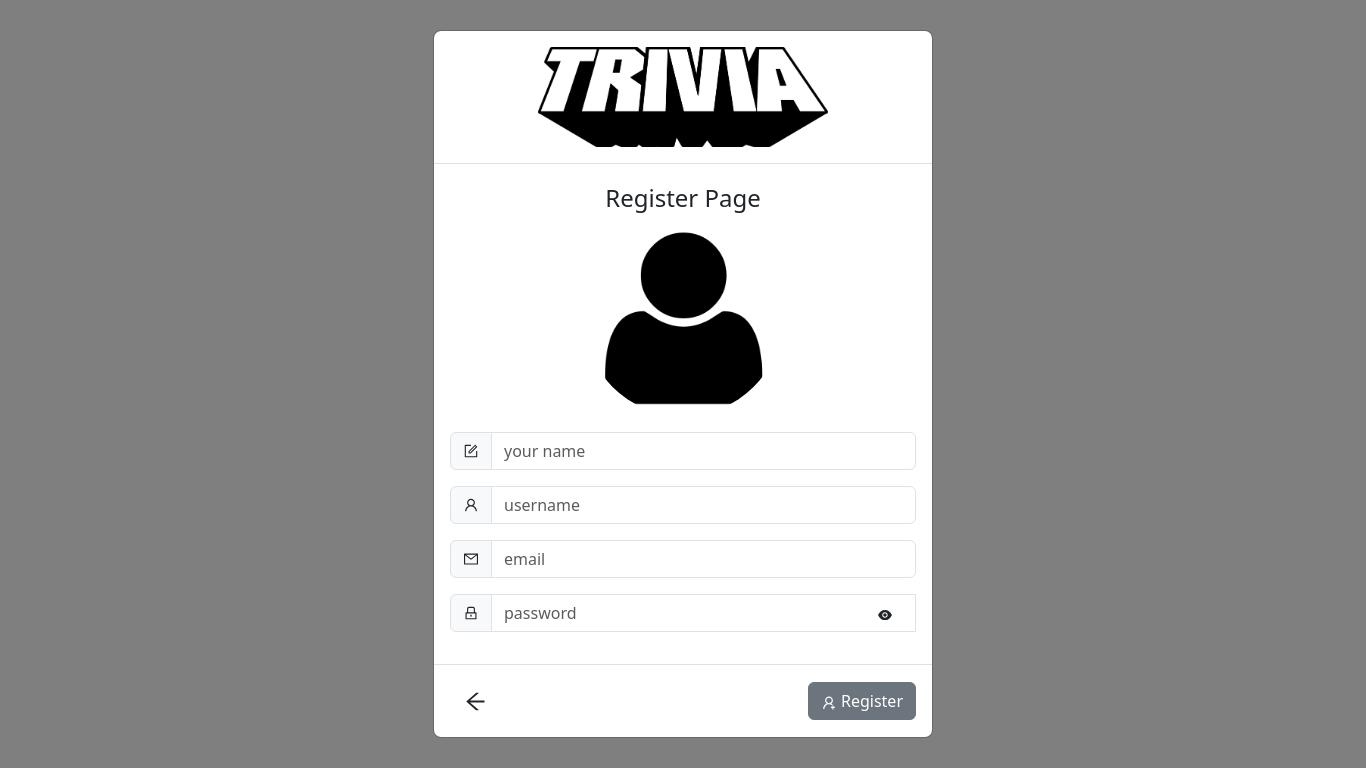
Scenario: Register Page › should not be possible to Register if the username already exists
In the field with placeholder "your name": (704, 451) [491,432,916,470], type "Jane Doe"
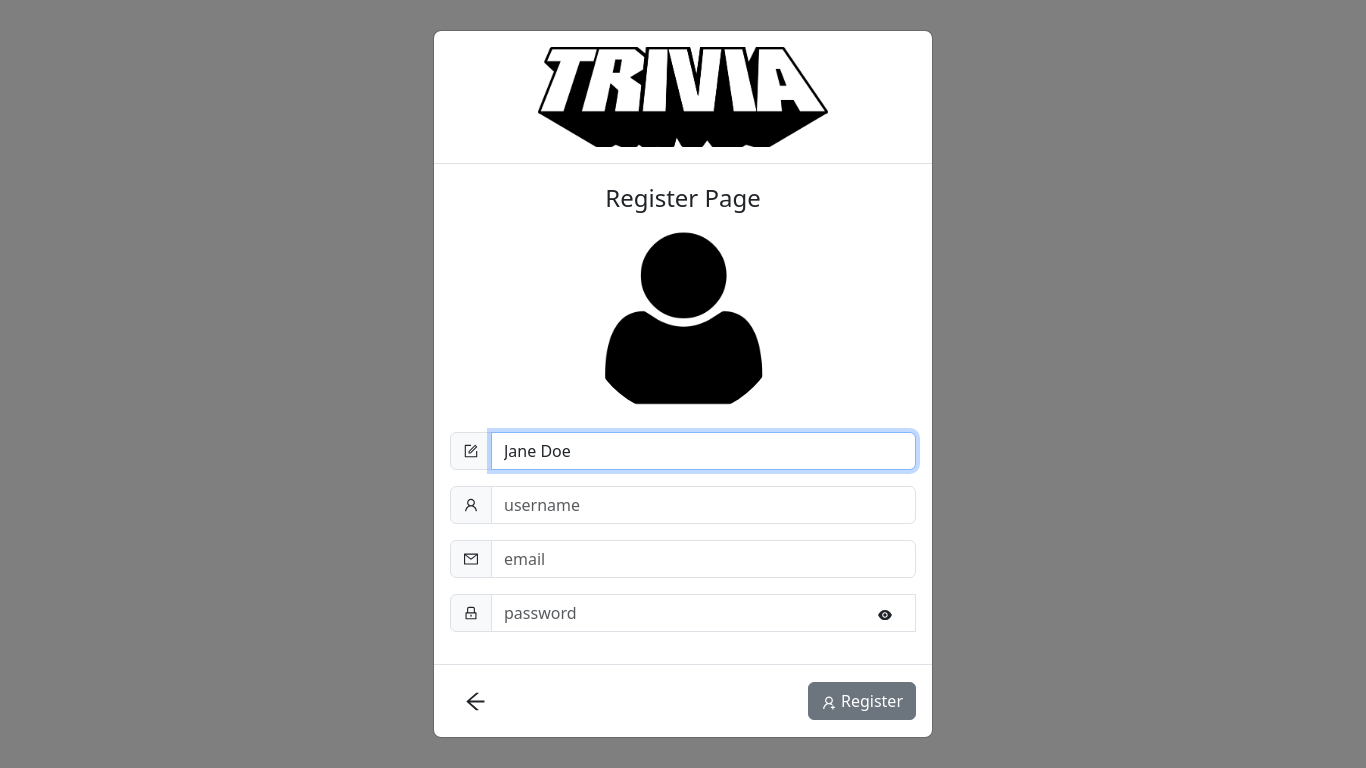
In the field with placeholder "username": (704, 505) [491,486,916,524], type "@jane.doe"
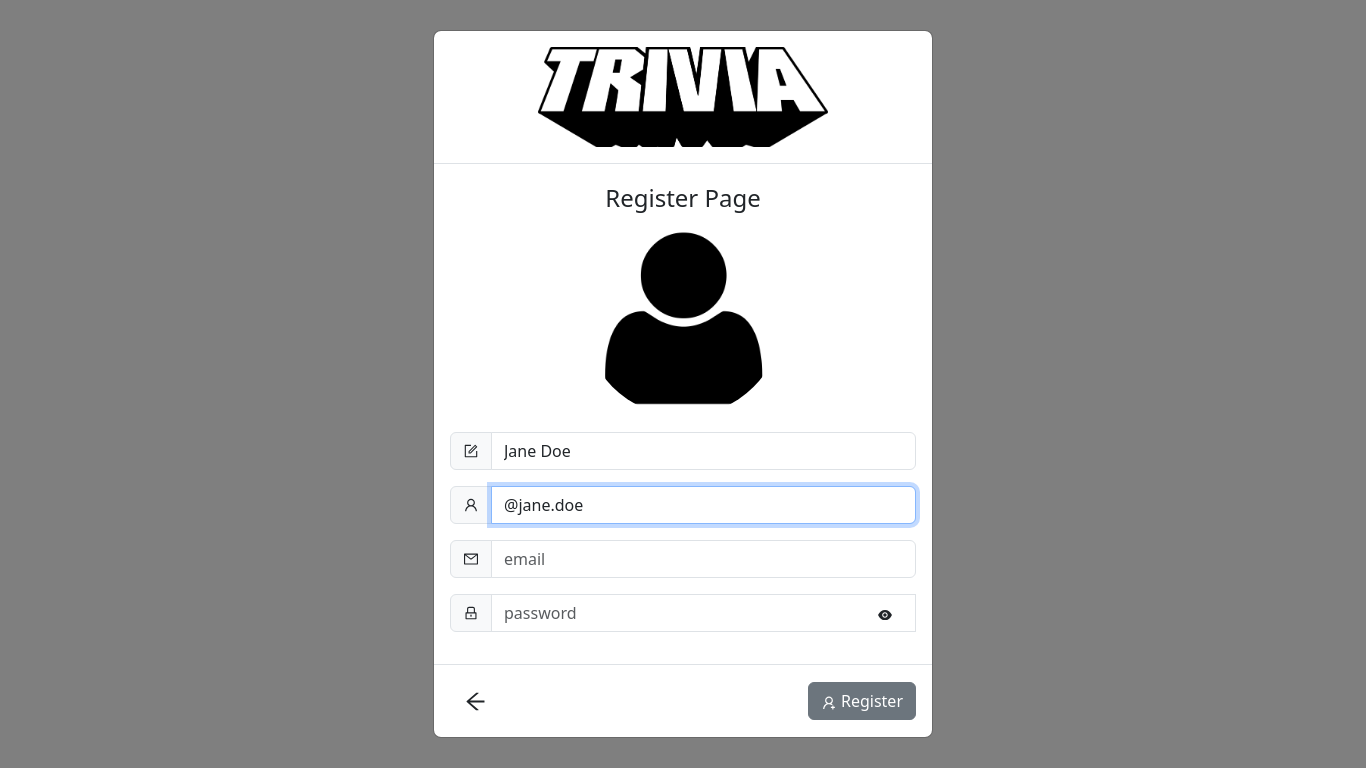
In the field with placeholder "email": (704, 559) [491,540,916,578], type "example@example.com"
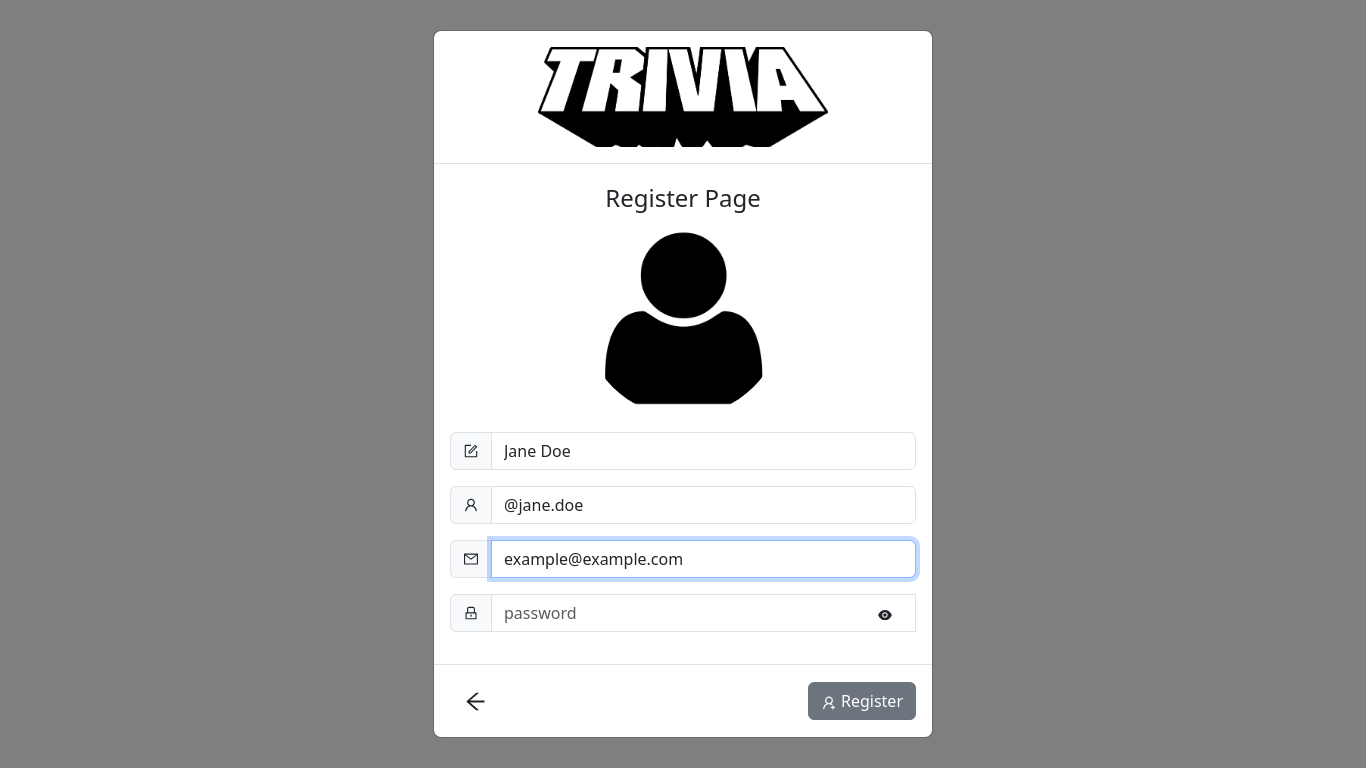
In the password field with placeholder "password": (704, 613) [491,594,916,632], type "password123"
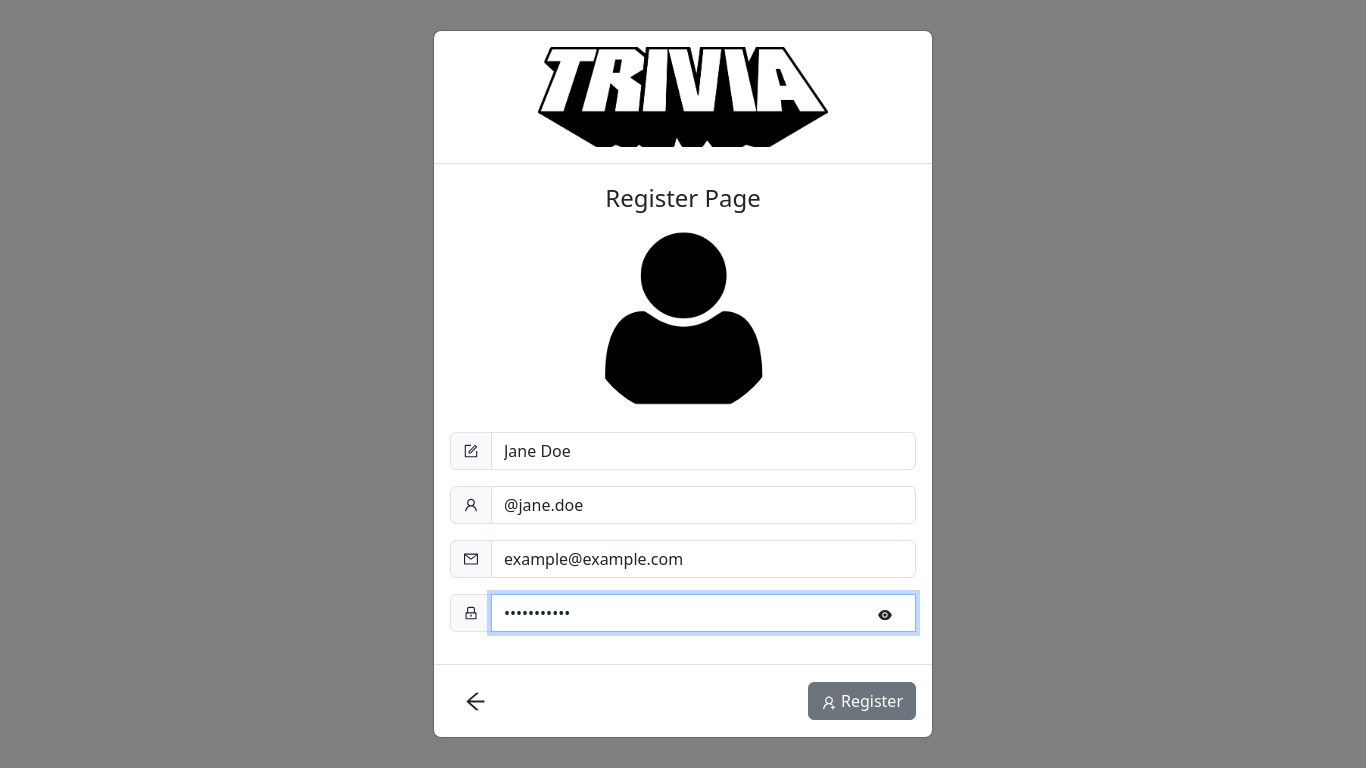
Click the button "Register": (862, 701) [808,682,916,720]
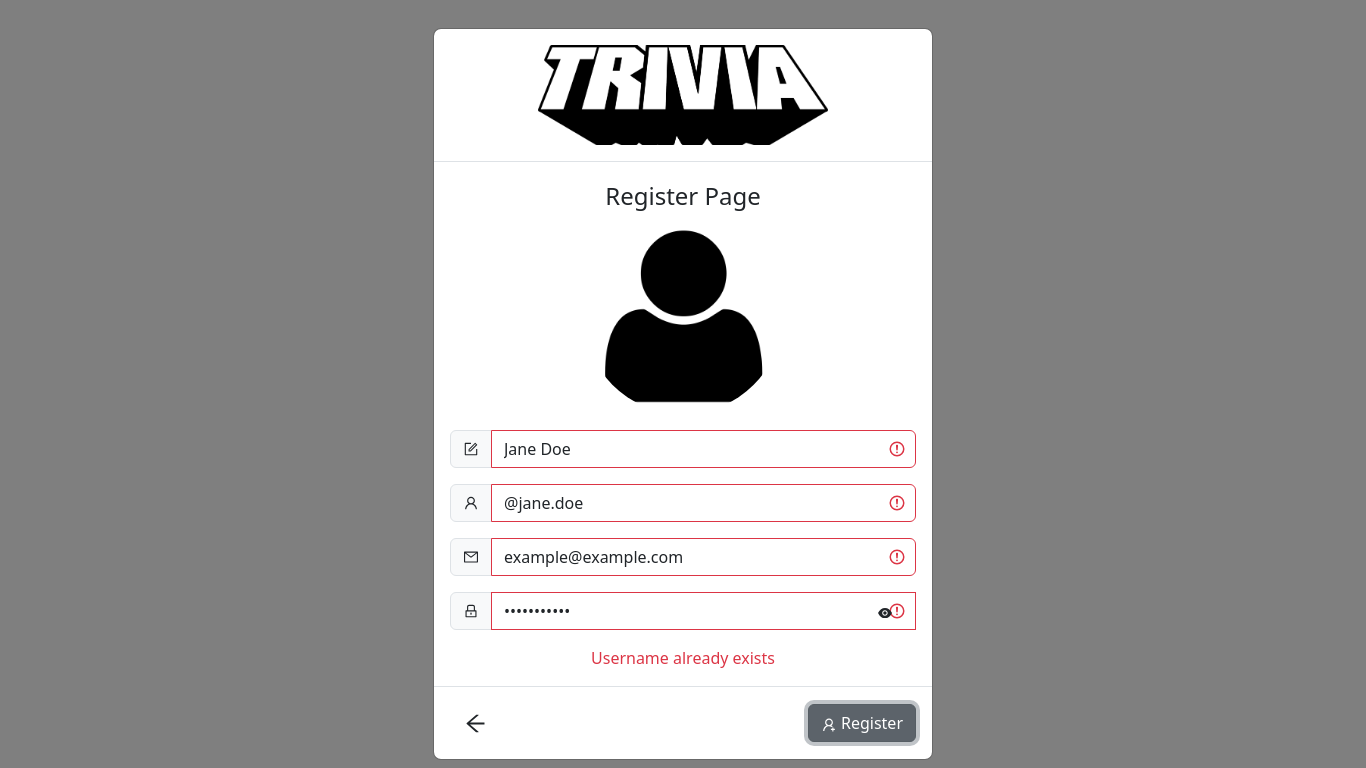
Check: the text "Username already exists" is shown, box [591,647,775,669]
